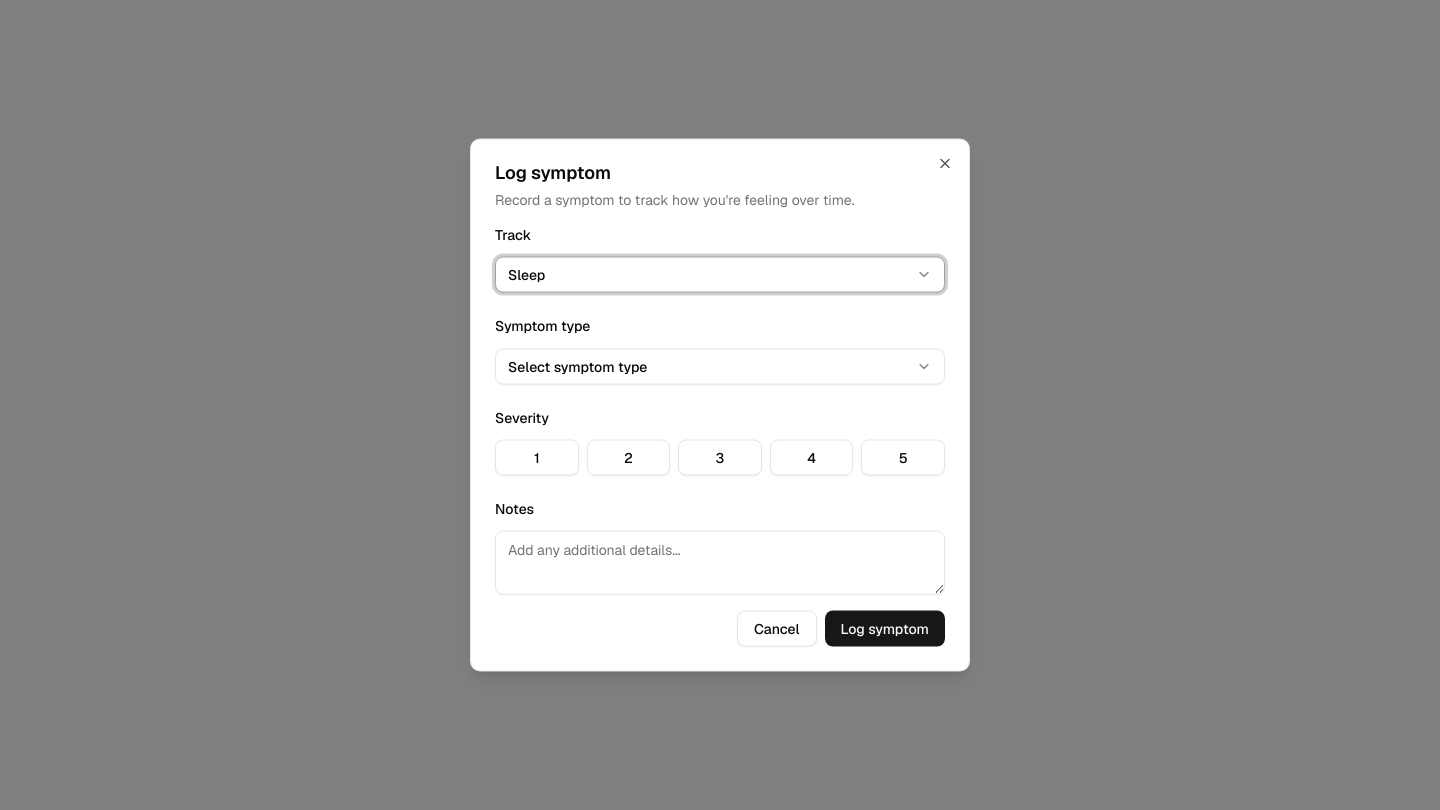
Test case: SymptomDialogue › shows validation error when submitting without required fields
The width and height of the screenshot is (1440, 810).
Click the button "Log symptom": (885,628) [824,610,945,646]
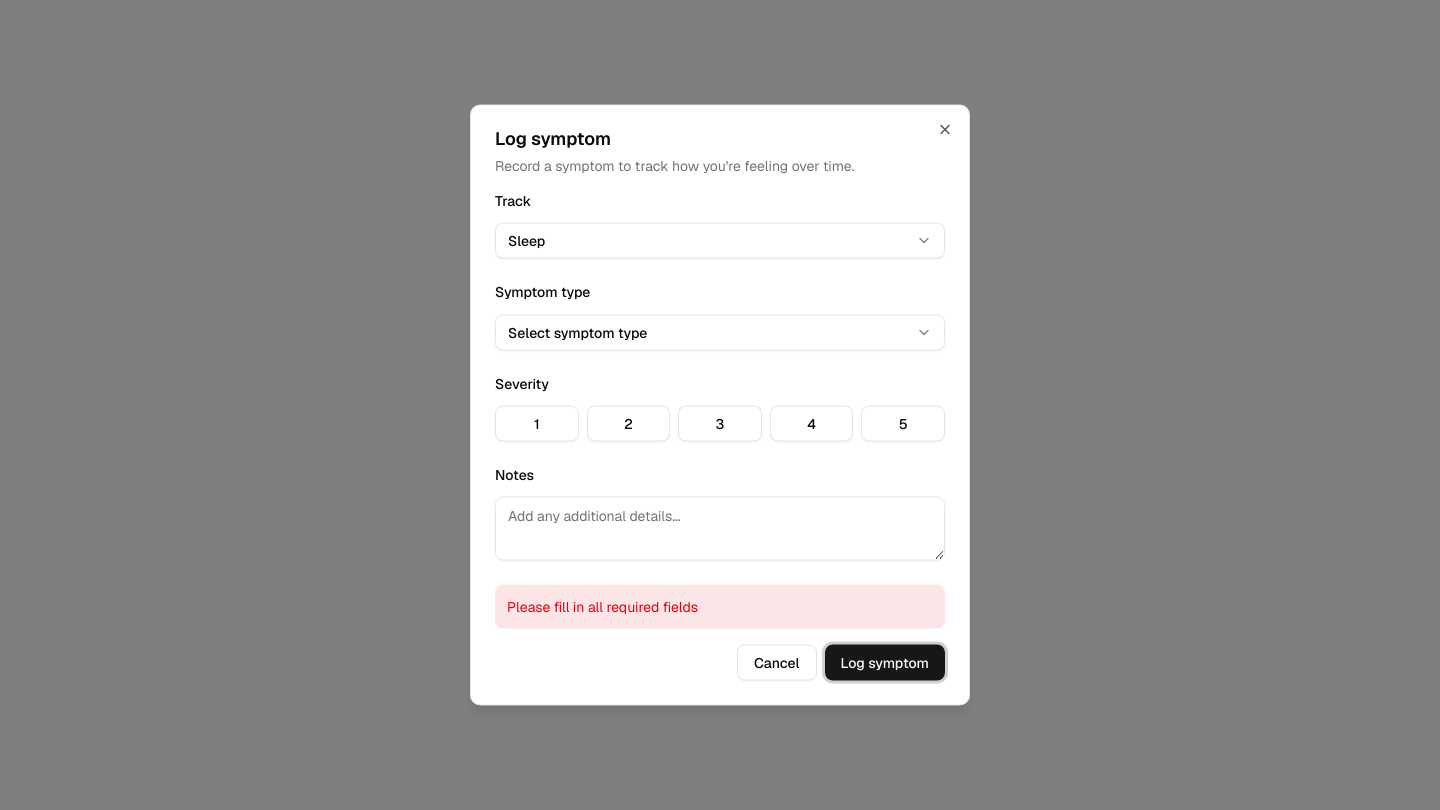
Expected: the text "Please fill in all required fields" is shown, [495,584,945,628]
